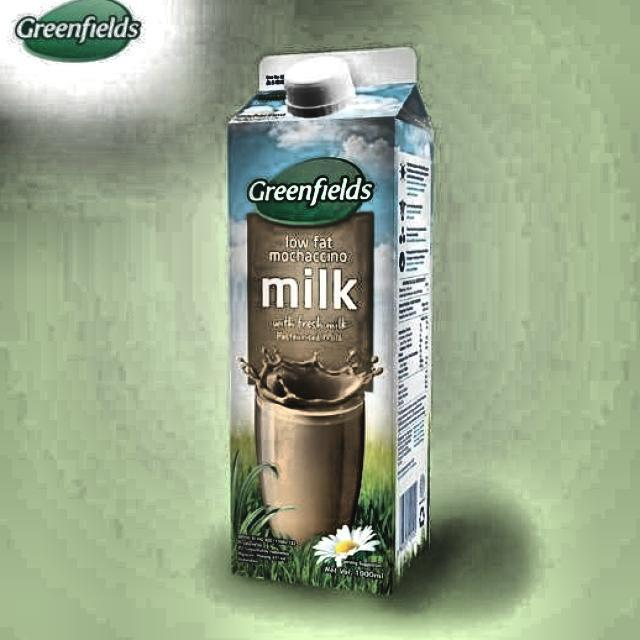cardboard: (225, 46, 434, 594)
